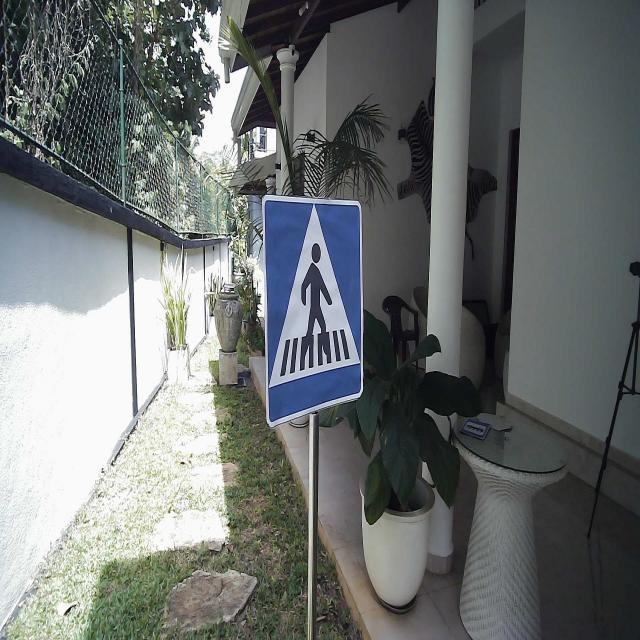crosswalk_sign: (260, 193, 366, 429)
